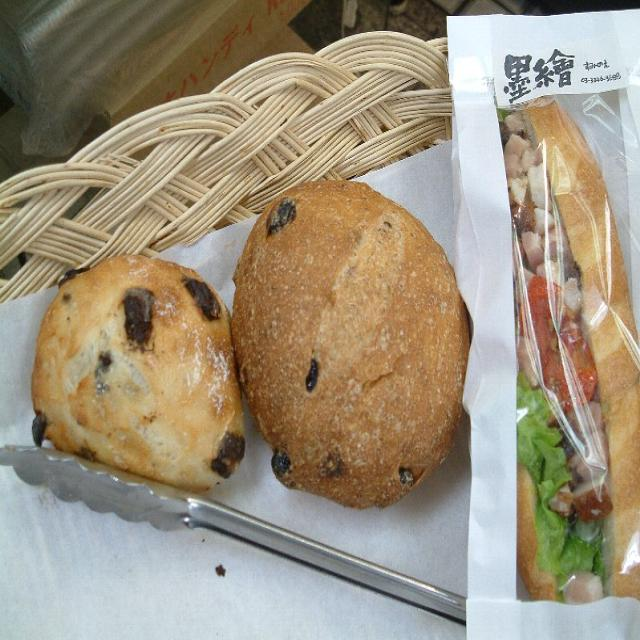面包点心: (27, 195, 471, 509)
